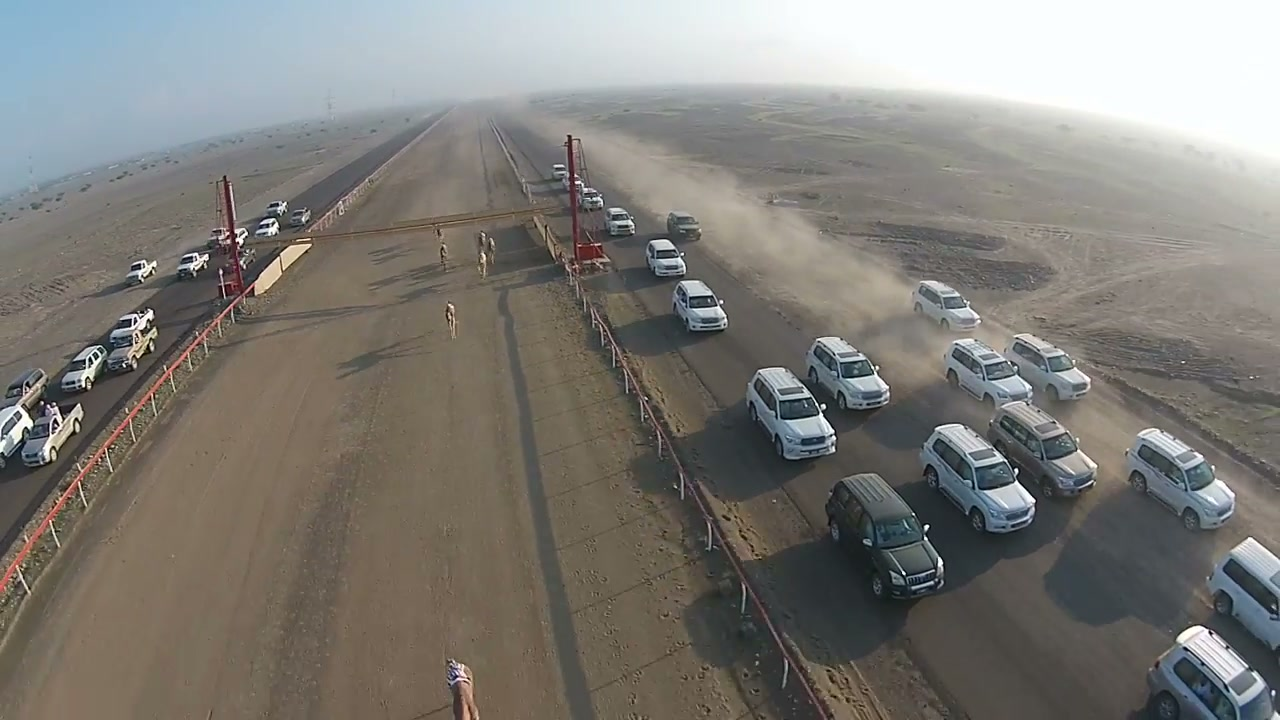animal_foot_print: (578, 357, 731, 715), (551, 416, 673, 706)
